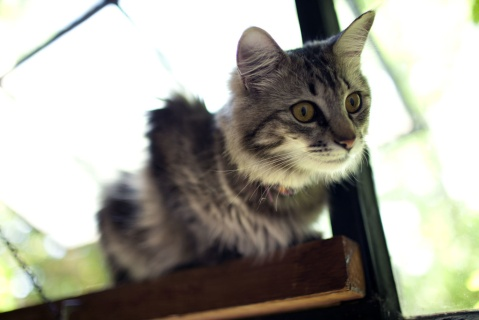Cat: (91, 7, 373, 287)
